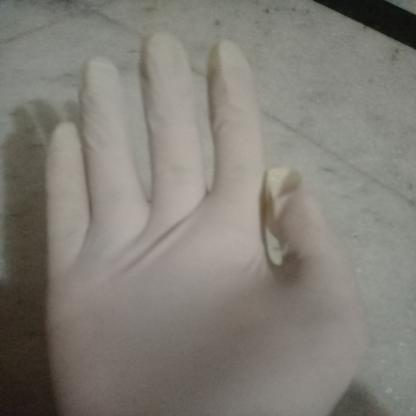gloved_hand: (41, 21, 376, 413)
